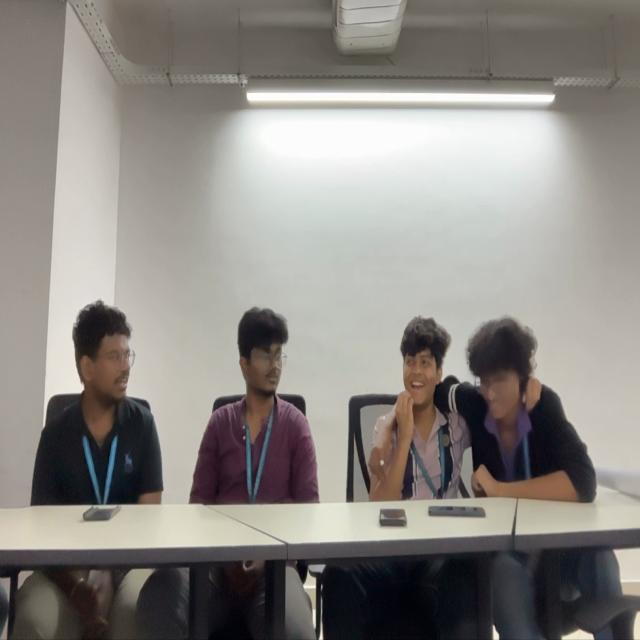Isolated: (28, 289, 166, 505), (189, 299, 319, 502)
socializing: (366, 309, 598, 503)
